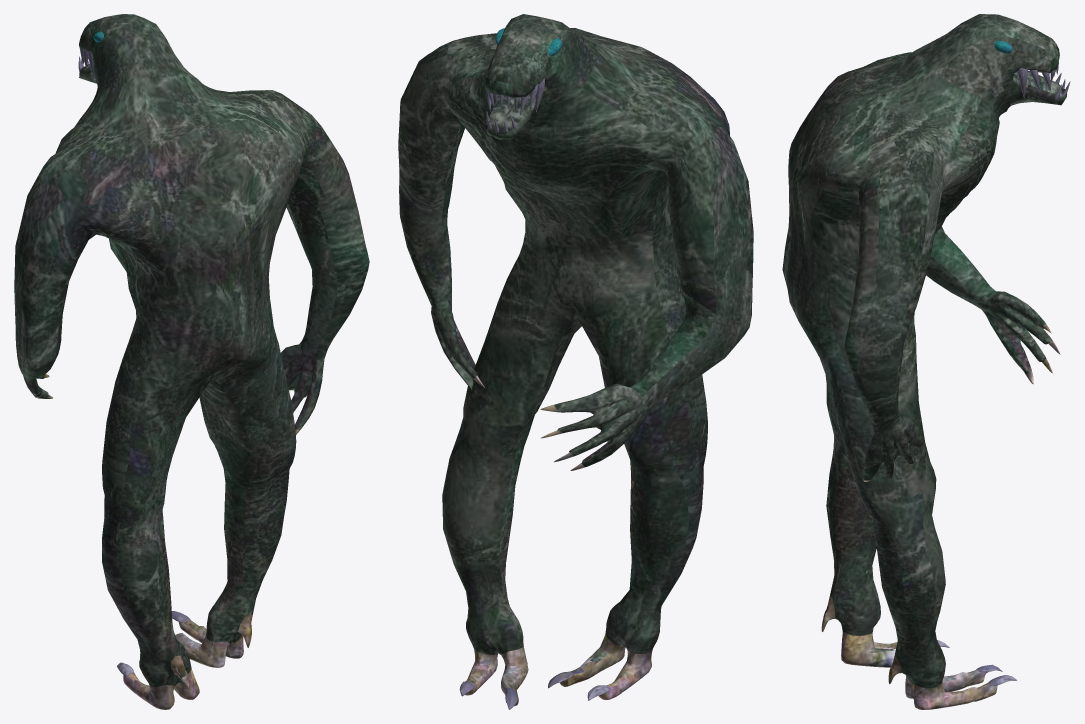
The model's file is Andar.0018.obj.
3 renders of one model, left to right at view 1: azimuth 30°, elevation 25°; view 2: azimuth 150°, elevation 25°; view 3: azimuth 270°, elevation 25°, orthographic. The views are drawn at different scales.
Parts seen in each view (by area): view 1: polySurface28; view 2: polySurface28; view 3: polySurface28.
Part boxes in pixels (bbox=[...]): polySurface28: bbox=[14, 14, 369, 709]; polySurface28: bbox=[398, 14, 753, 709]; polySurface28: bbox=[782, 14, 1070, 709].
Size of the model in its own units: 1.24 by 2.34 by 0.9321.
Materials: 4 (4 with a texture image).
